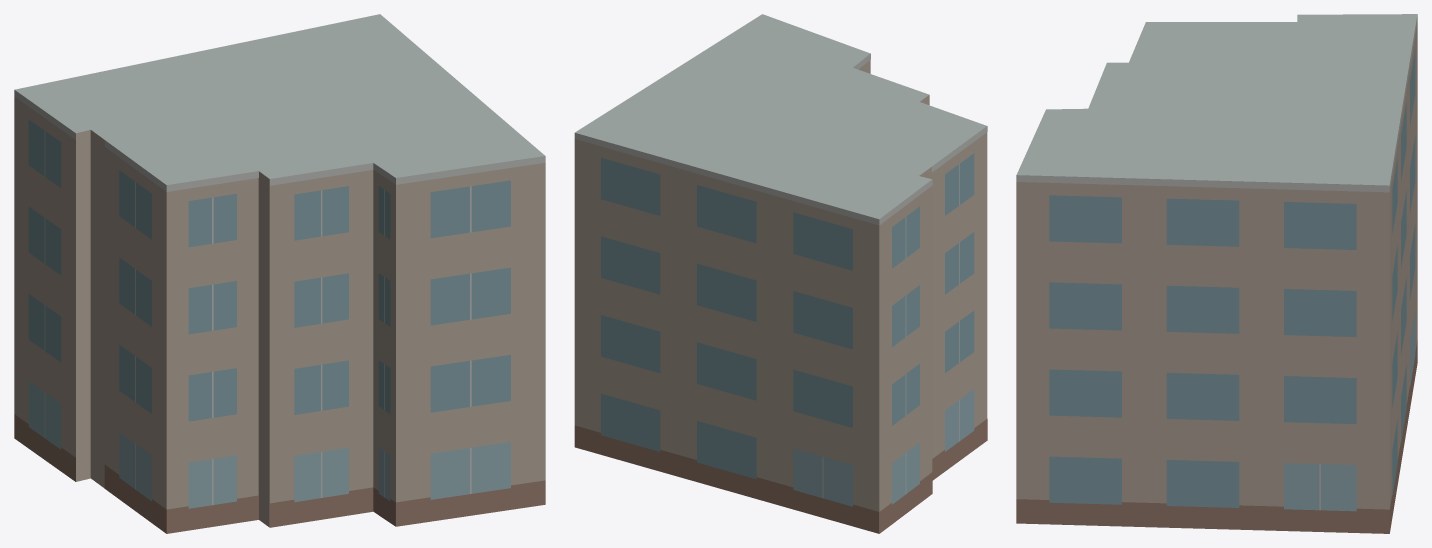
File: survey-upis-32711082.glb
The picture shows the model from 3 angles, left to right: view 1: azimuth 30°, elevation 25°; view 2: azimuth 150°, elevation 25°; view 3: azimuth 270°, elevation 25°; orthographic projection. The views are drawn at different scales.
Visible parts, largest first — view 1: survey-upis-32711082.tmp; view 2: survey-upis-32711082.tmp; view 3: survey-upis-32711082.tmp.
Boxes of the visible parts, x1,y1,x2,y2 form: survey-upis-32711082.tmp: (14, 14, 545, 533); survey-upis-32711082.tmp: (574, 14, 987, 533); survey-upis-32711082.tmp: (1016, 14, 1417, 533).
Size of the model in its own units: 13.21 by 12.5 by 13.06.
